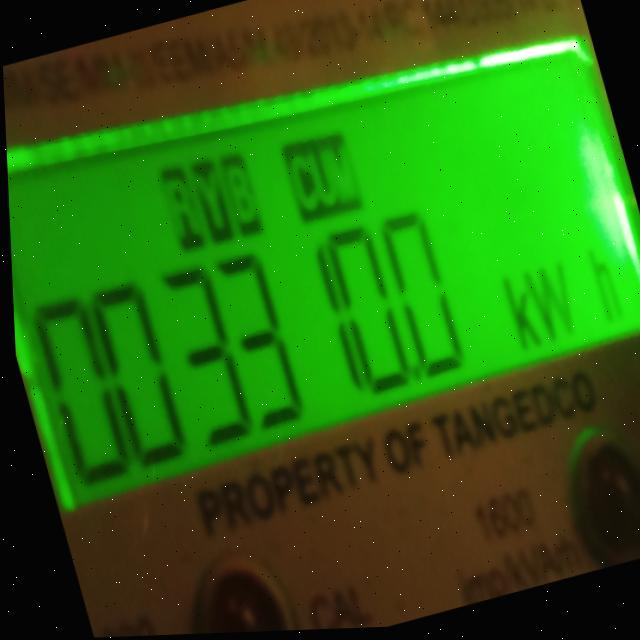.: (407, 367, 420, 386)
0: (84, 276, 187, 472), (27, 293, 129, 487), (320, 224, 410, 399), (375, 208, 464, 382)
1: (306, 243, 362, 397)
3: (161, 261, 253, 446), (212, 248, 302, 431)
